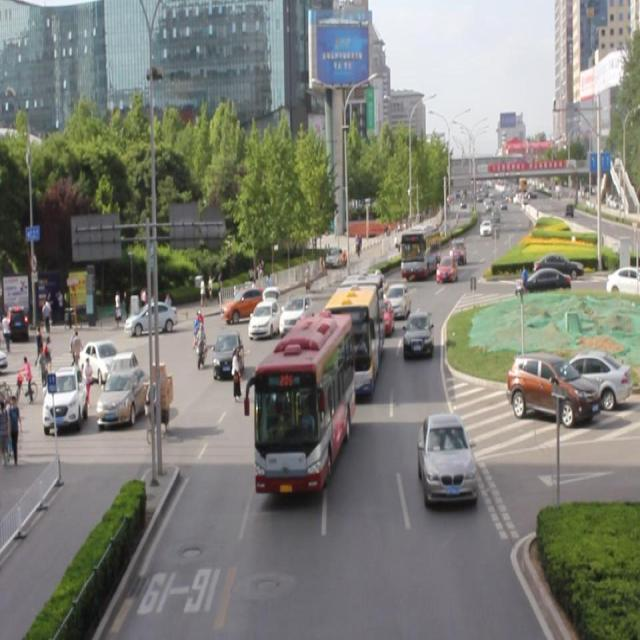car: (417, 411, 476, 503), (253, 363, 297, 423), (222, 286, 267, 322), (212, 331, 244, 378), (279, 294, 312, 338), (404, 309, 434, 357), (248, 298, 278, 340), (360, 268, 388, 306), (370, 296, 394, 335), (384, 283, 409, 318), (436, 252, 457, 284)
van: (256, 314, 352, 488), (321, 272, 381, 399), (400, 221, 439, 278)
